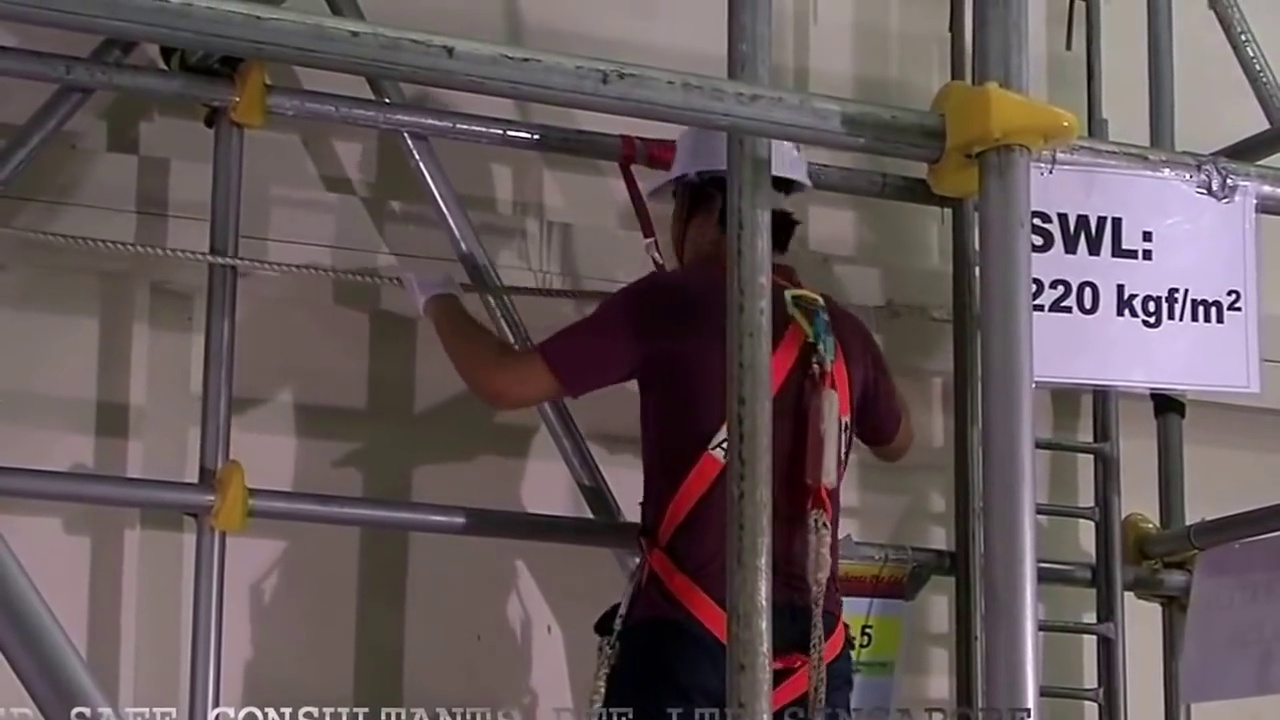harness: (661, 319, 849, 673)
helmet: (671, 131, 807, 180)
